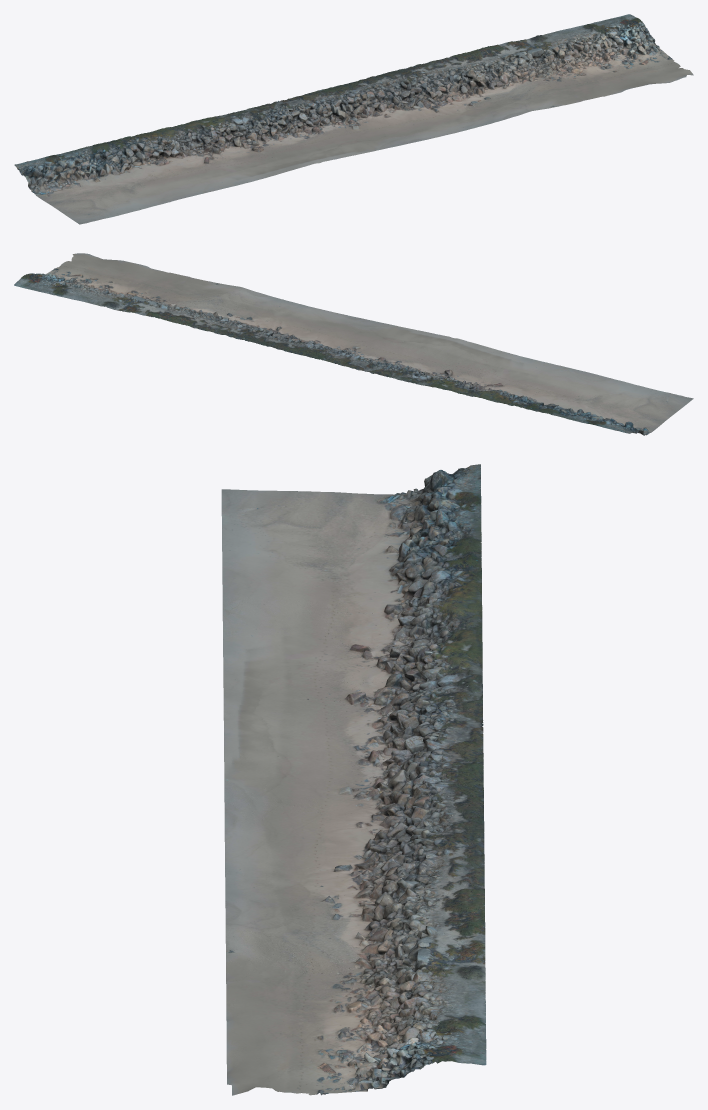
Rendered from breakwater_coast_2k.glb.
The picture shows the model from 3 angles, top to bottom: view 1: azimuth 30°, elevation 25°; view 2: azimuth 150°, elevation 25°; view 3: azimuth 270°, elevation 25°; orthographic projection. The views are drawn at different scales.
Visible parts, largest first — view 1: Object_2; view 2: Object_2; view 3: Object_2.
Part boxes in pixels (x1,y1,x2,y2): Object_2: (14,14,693,224); Object_2: (14,253,693,435); Object_2: (221,464,486,1095).
Bounding box in the file's own units: 92.07 × 2.61 × 17.15.
Materials: 1 (1 with a texture image).
